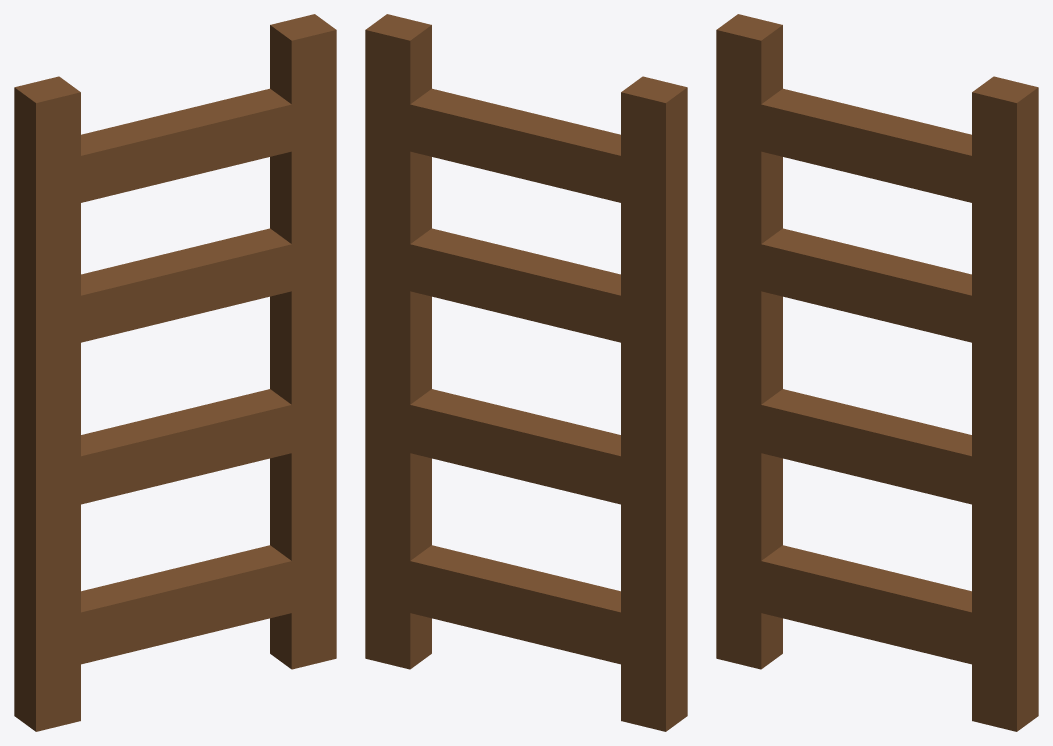
Rendered from Lader.fbx.
The picture shows the model from 3 angles, left to right: view 1: azimuth 30°, elevation 25°; view 2: azimuth 150°, elevation 25°; view 3: azimuth 330°, elevation 25°; orthographic projection.
Visible parts, largest first — view 1: Lader; view 2: Lader; view 3: Lader.
Part boxes in pixels (<box>): Lader: <box>14,14,336,731</box>; Lader: <box>365,14,687,731</box>; Lader: <box>716,14,1038,731</box>.
Bounding box in the file's own units: 400 × 800 × 50.
